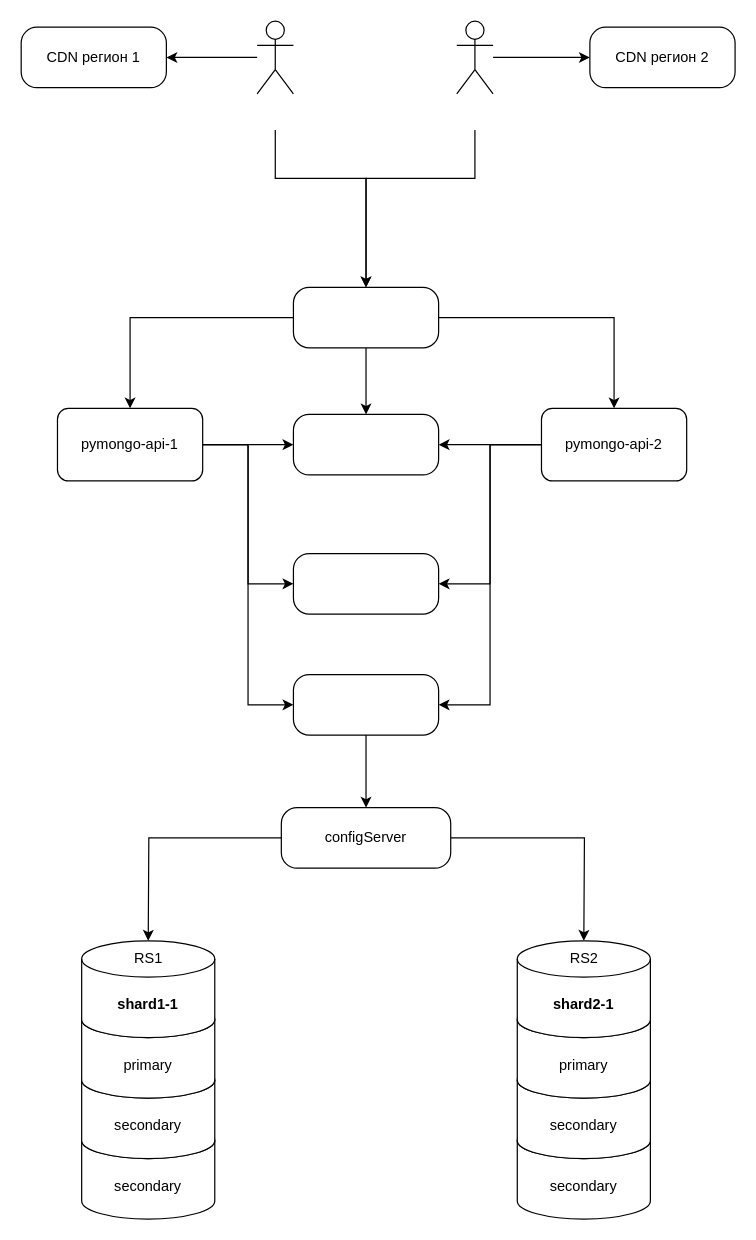
Some shapes in this 756 by 1240 pixel diagram are drawn without their labels. The shapes that lost their labels are listed below. From the top down, each one's centre as x and y in pixels, then its label:
[274,57]: Actor 1
[474,57]: Actor 2
[365,317]: API Gateway
[365,444]: Consul
[365,583]: redis cache
[365,704]: router
